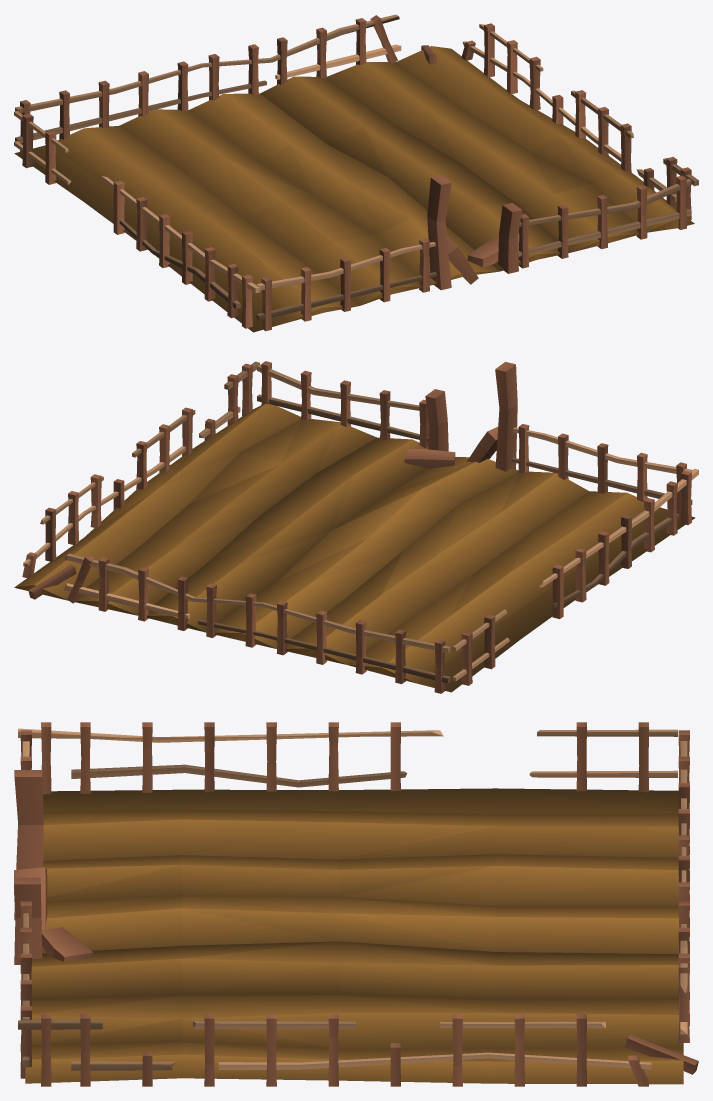
File: Farm_Field_destroyed.fbx
The picture shows the model from 3 angles, top to bottom: view 1: azimuth 30°, elevation 25°; view 2: azimuth 150°, elevation 25°; view 3: azimuth 270°, elevation 25°; orthographic projection. The views are drawn at different scales.
Visible parts, largest first — view 1: Farm_Field; view 2: Farm_Field; view 3: Farm_Field.
Part boxes in pixels (x1=…): Farm_Field: x1=14, y1=14, x2=698, y2=332; Farm_Field: x1=14, y1=361, x2=698, y2=693; Farm_Field: x1=14, y1=722, x2=698, y2=1086.
Size of the model in its own units: 350 by 81.25 by 341.
1 material, 1 textured.
